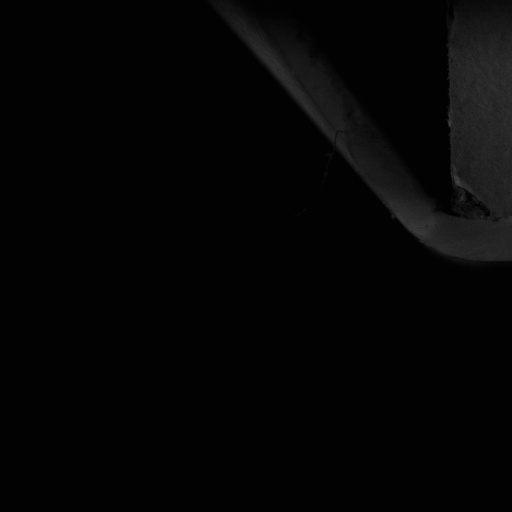bengque: (449, 174, 496, 226)
kaijiao: (219, 0, 459, 265)
